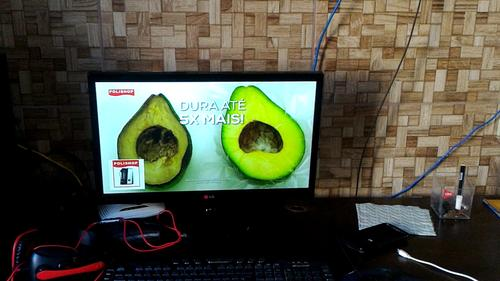Polishop #1: (108, 157, 146, 190)
